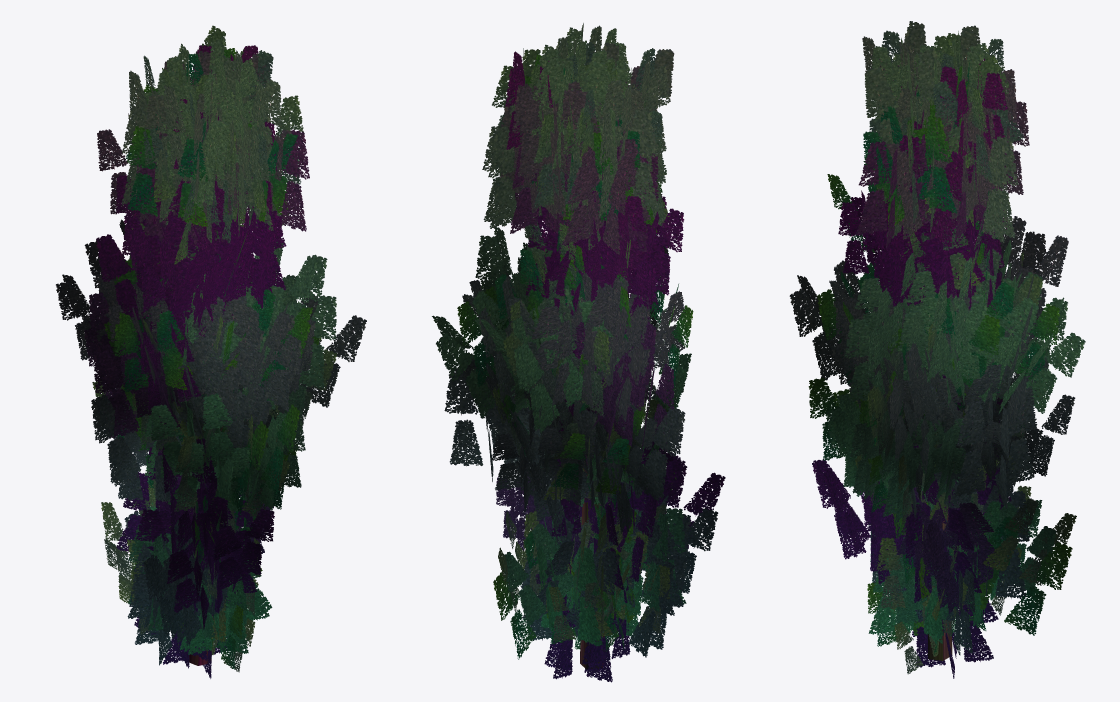
The model's file is nat_cypress_a_LOD1.glb.
3 views of the same model, side by side, from view 1: azimuth 30°, elevation 25°; view 2: azimuth 150°, elevation 25°; view 3: azimuth 270°, elevation 25° (orthographic). The views are drawn at different scales.
Parts seen in each view (by area): view 1: nat_cypress_a_LOD1; view 2: nat_cypress_a_LOD1; view 3: nat_cypress_a_LOD1.
Boxes of the visible parts, x1,y1,x2,y2 form: nat_cypress_a_LOD1: (56, 25, 366, 678); nat_cypress_a_LOD1: (432, 23, 725, 682); nat_cypress_a_LOD1: (789, 21, 1085, 678).
Size of the model in its own units: 5.06 by 9.77 by 4.58.
Materials: 2 (2 with a texture image).
